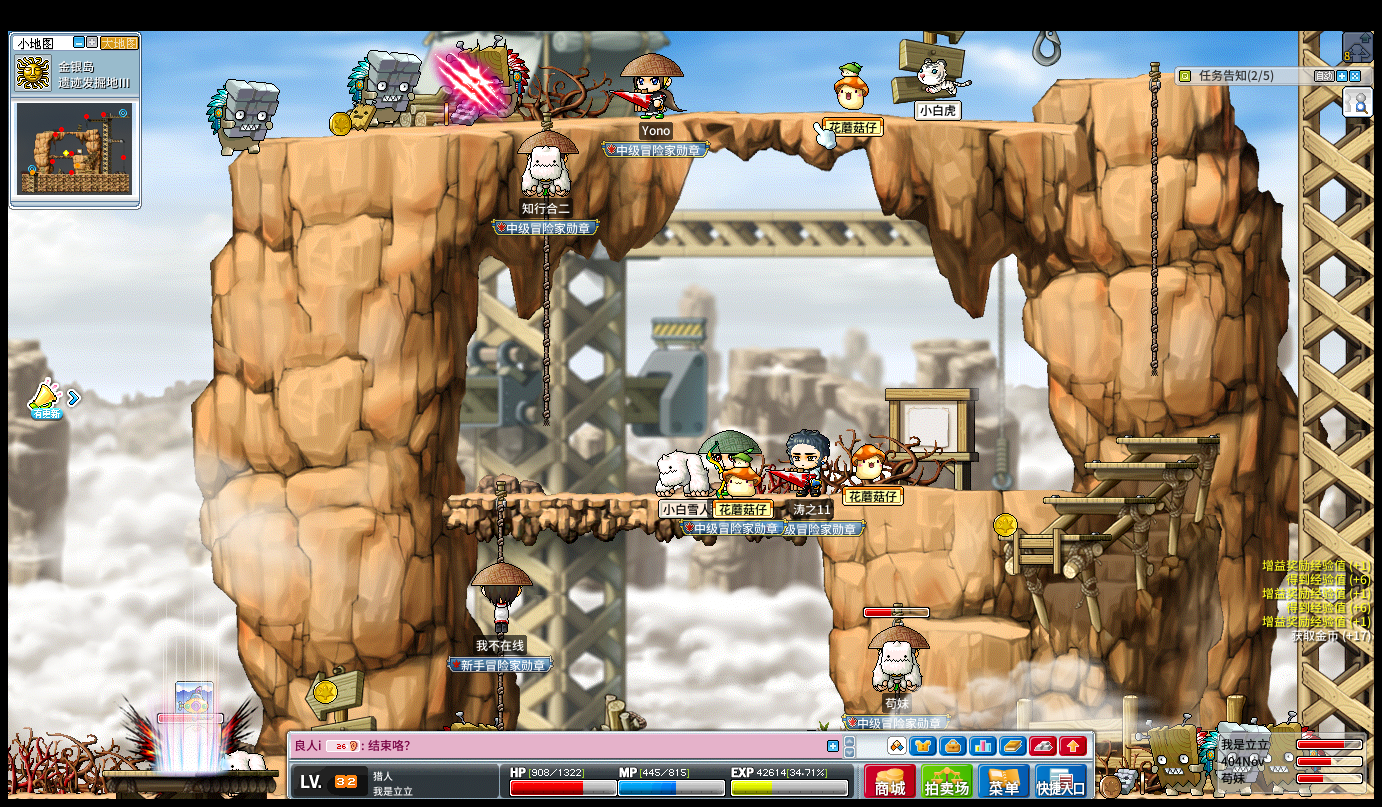floor: (221, 109, 1082, 144), (446, 492, 821, 502), (923, 617, 1030, 637), (1052, 71, 1167, 84), (915, 487, 1076, 496), (1114, 434, 1221, 447), (1078, 460, 1197, 469), (996, 533, 1111, 541), (1041, 496, 1155, 504)
monster: (448, 34, 528, 120), (347, 48, 420, 130), (207, 78, 281, 157), (1200, 720, 1271, 793), (1140, 716, 1207, 792)
rope: (1147, 58, 1161, 380), (539, 151, 551, 428), (539, 236, 550, 426), (492, 483, 504, 560), (496, 671, 505, 725)
